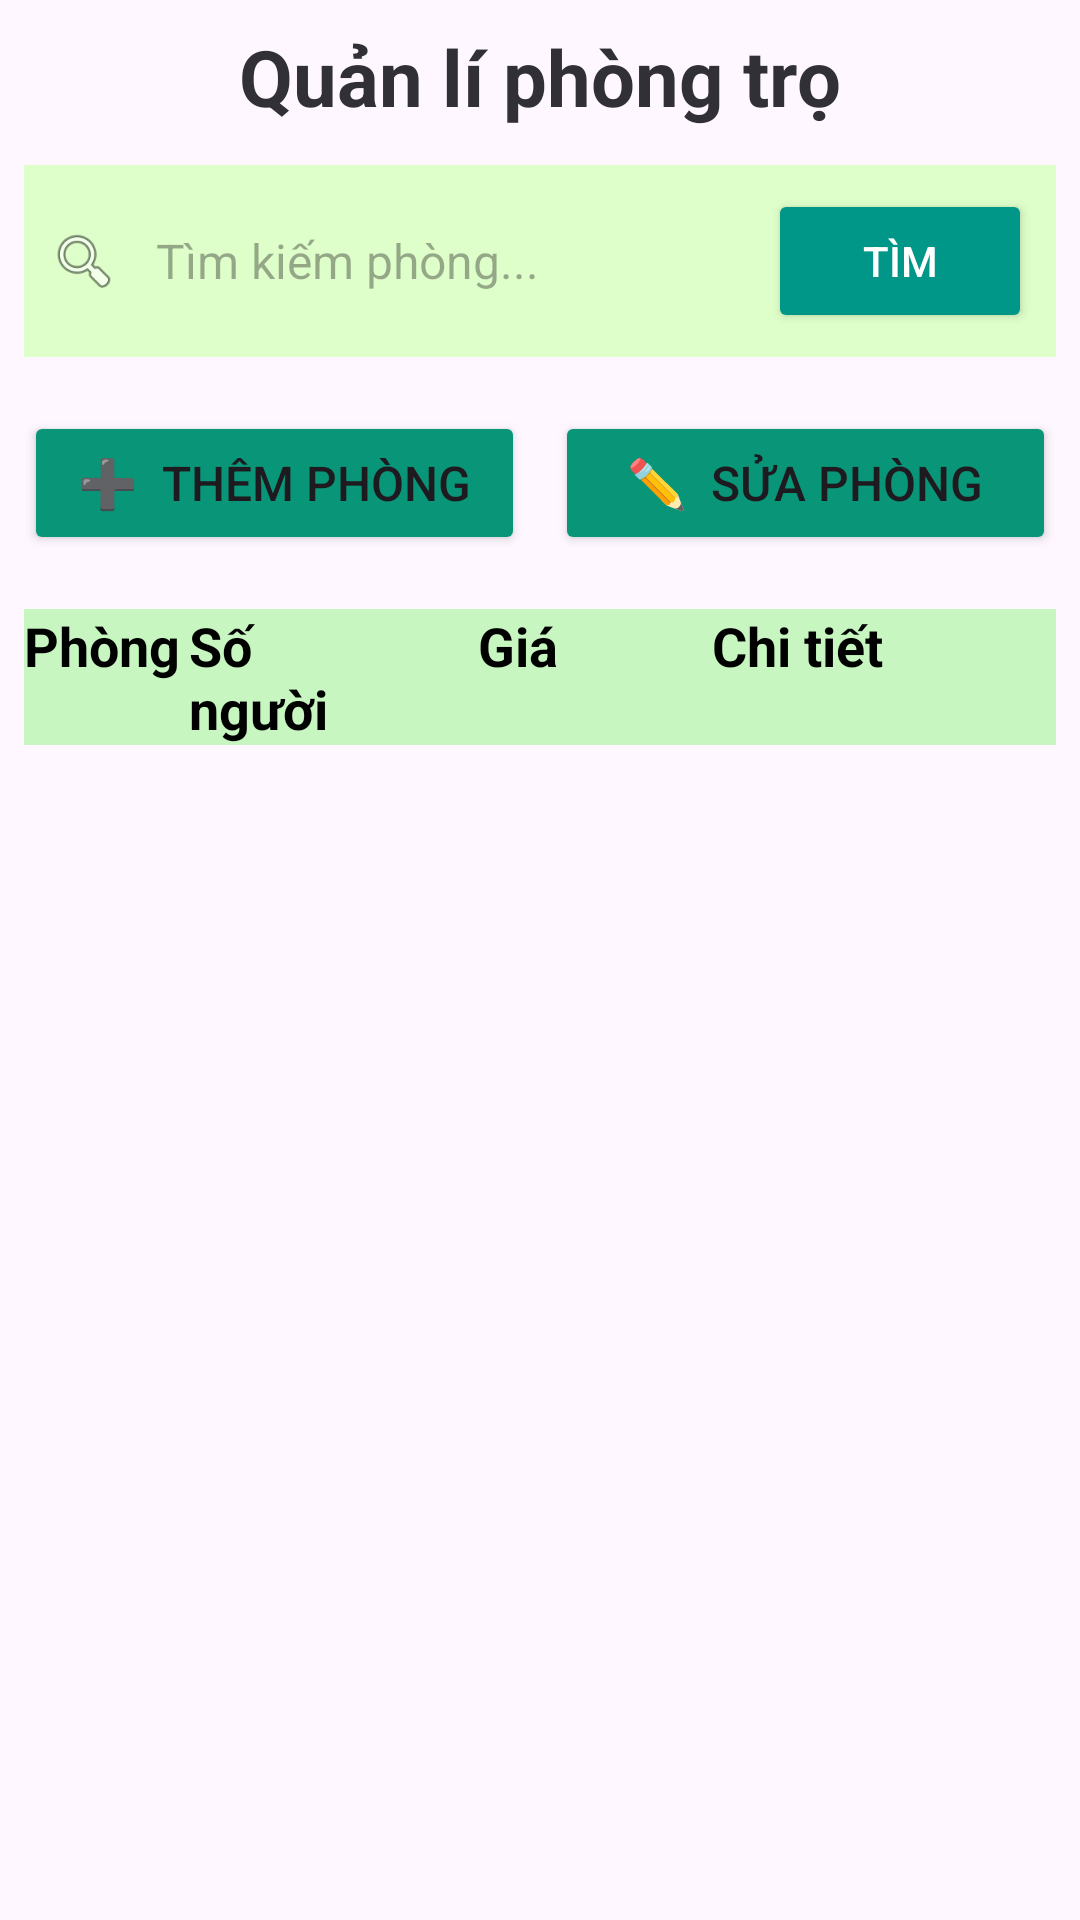

Icon click points for this 1080x1920 phone screenshot, format (x=x, y=y):
search: (x=84, y=261)
